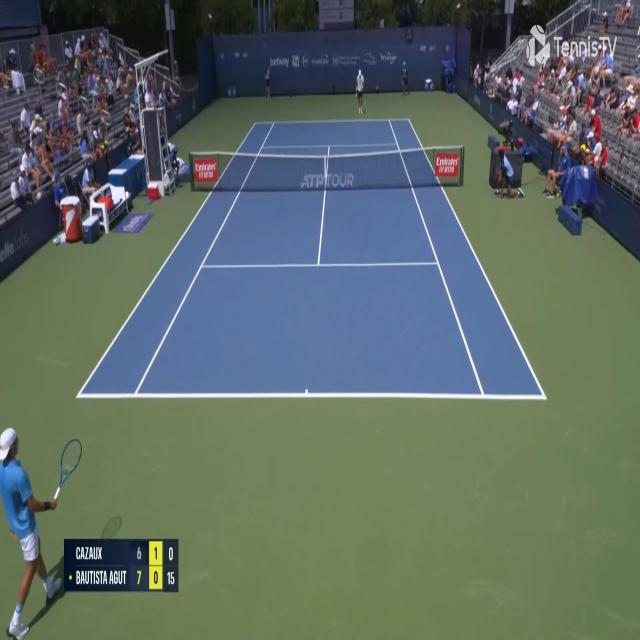tennis-player: (0, 423, 75, 638), (354, 67, 366, 116)
